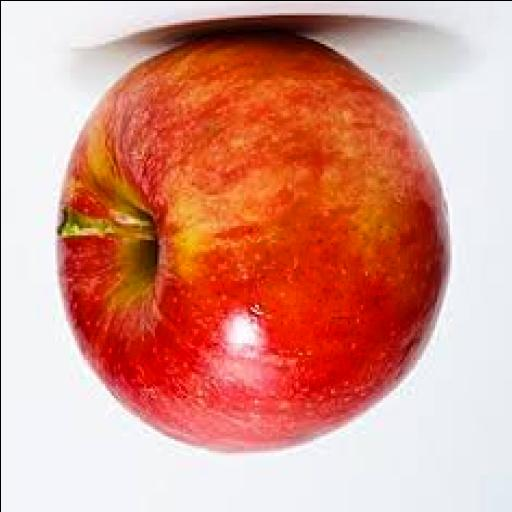apple: (60, 34, 447, 449)
